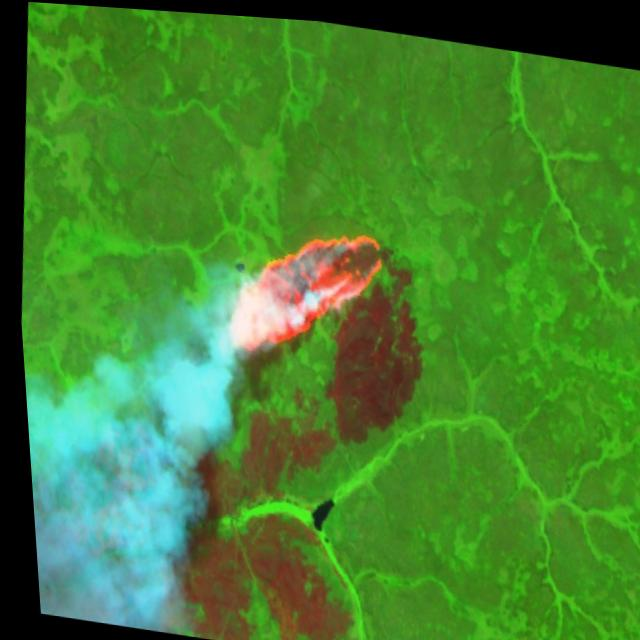fire: (211, 202, 388, 371)
